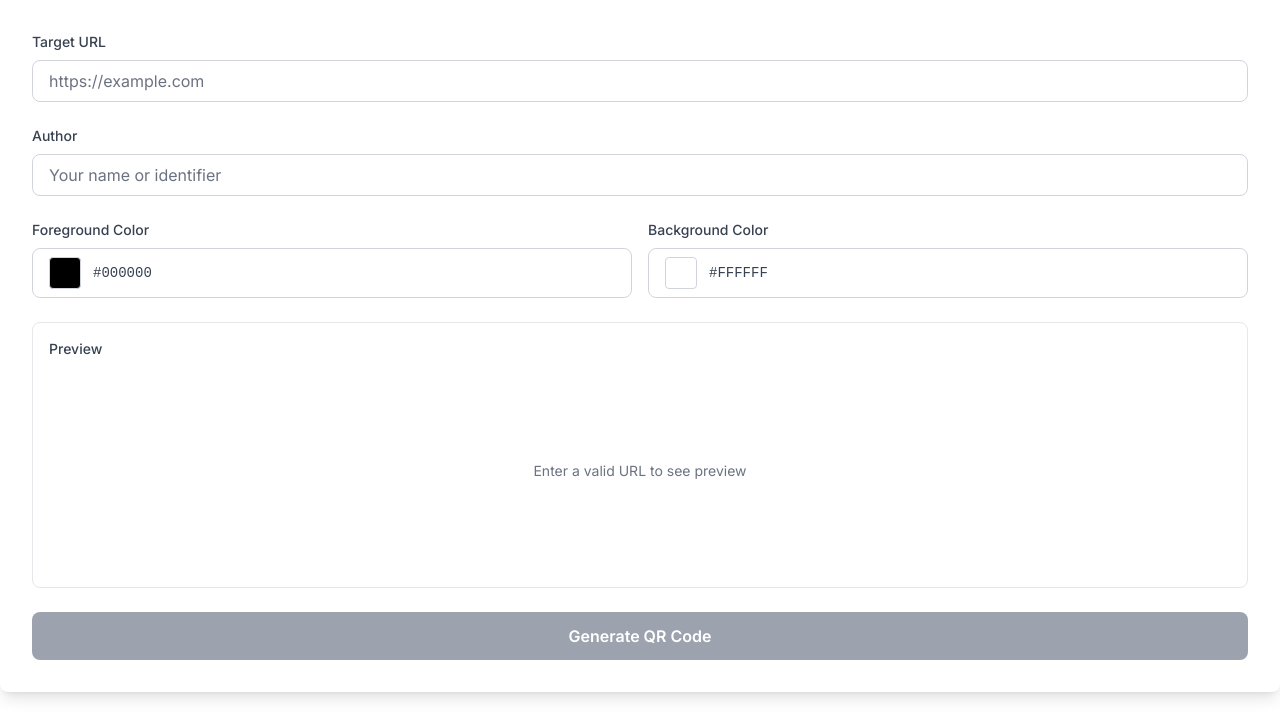
QRGenerator › Color pickers › should open background color picker when clicking the button
Click the button "#FFFFFF": (681, 273) [648, 248, 1248, 298]
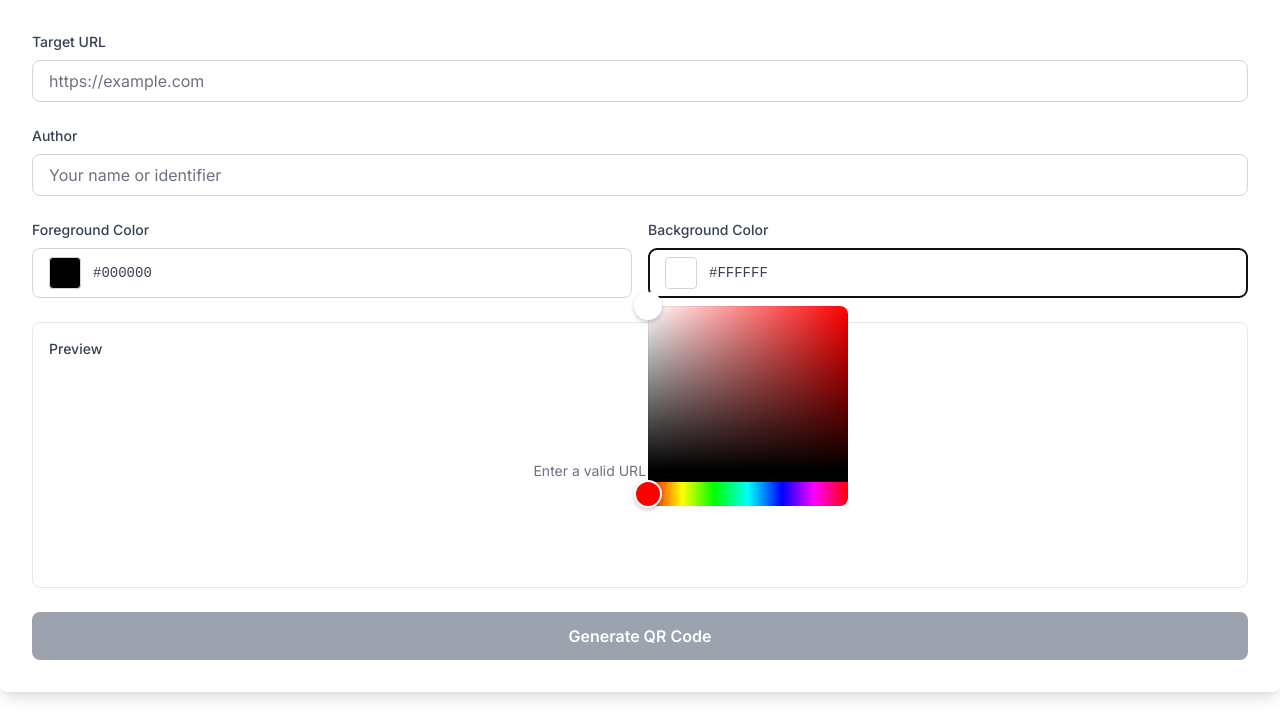
Expected: the element with class "react-colorful" is shown, [648, 306, 848, 506]
